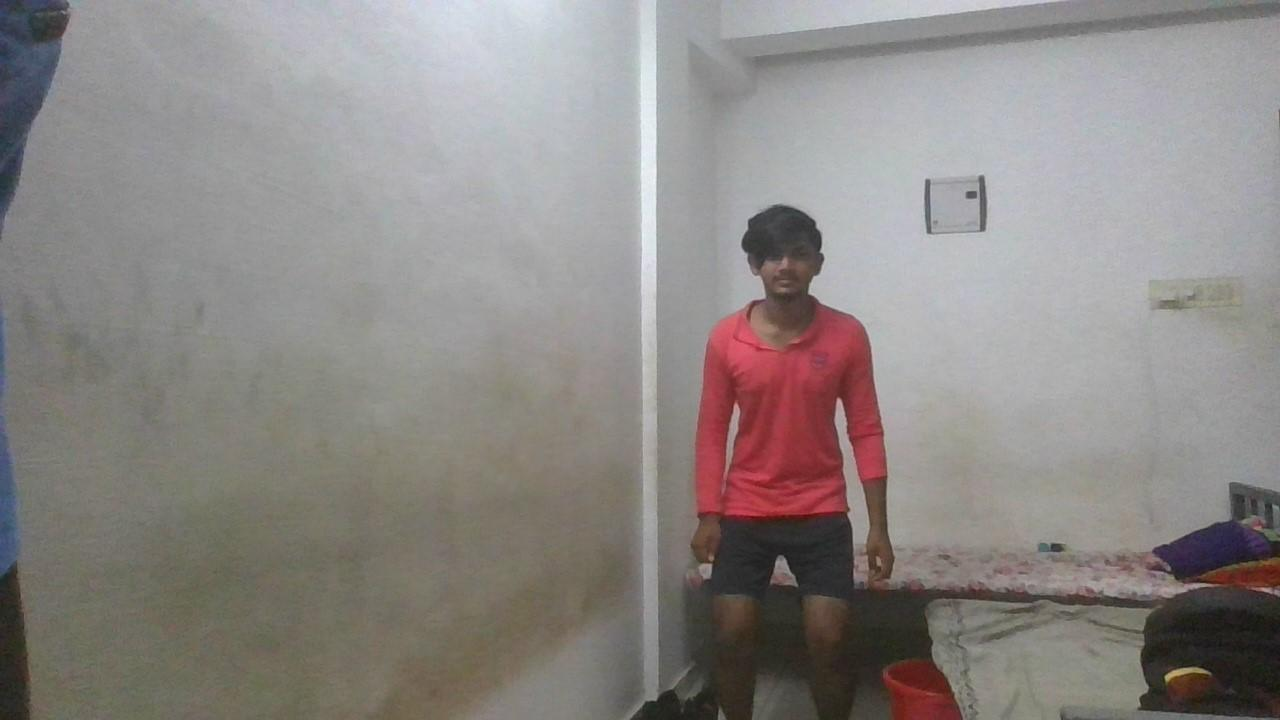nohelmet: (742, 202, 825, 305)
